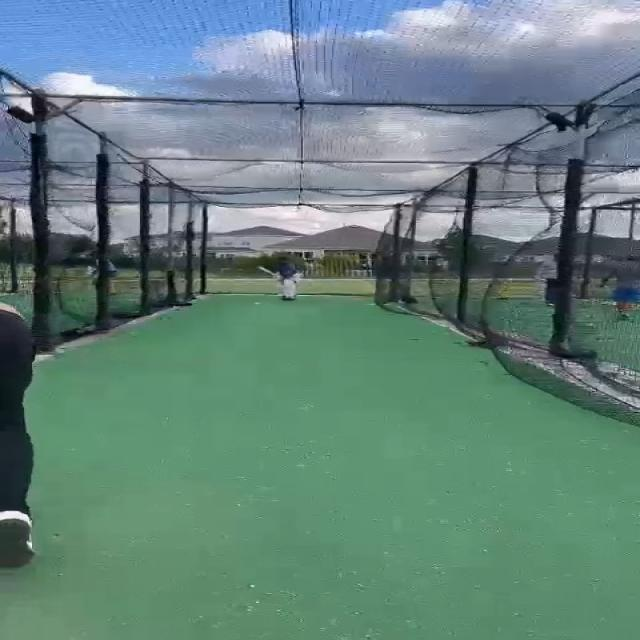batsman: (257, 256, 306, 302)
